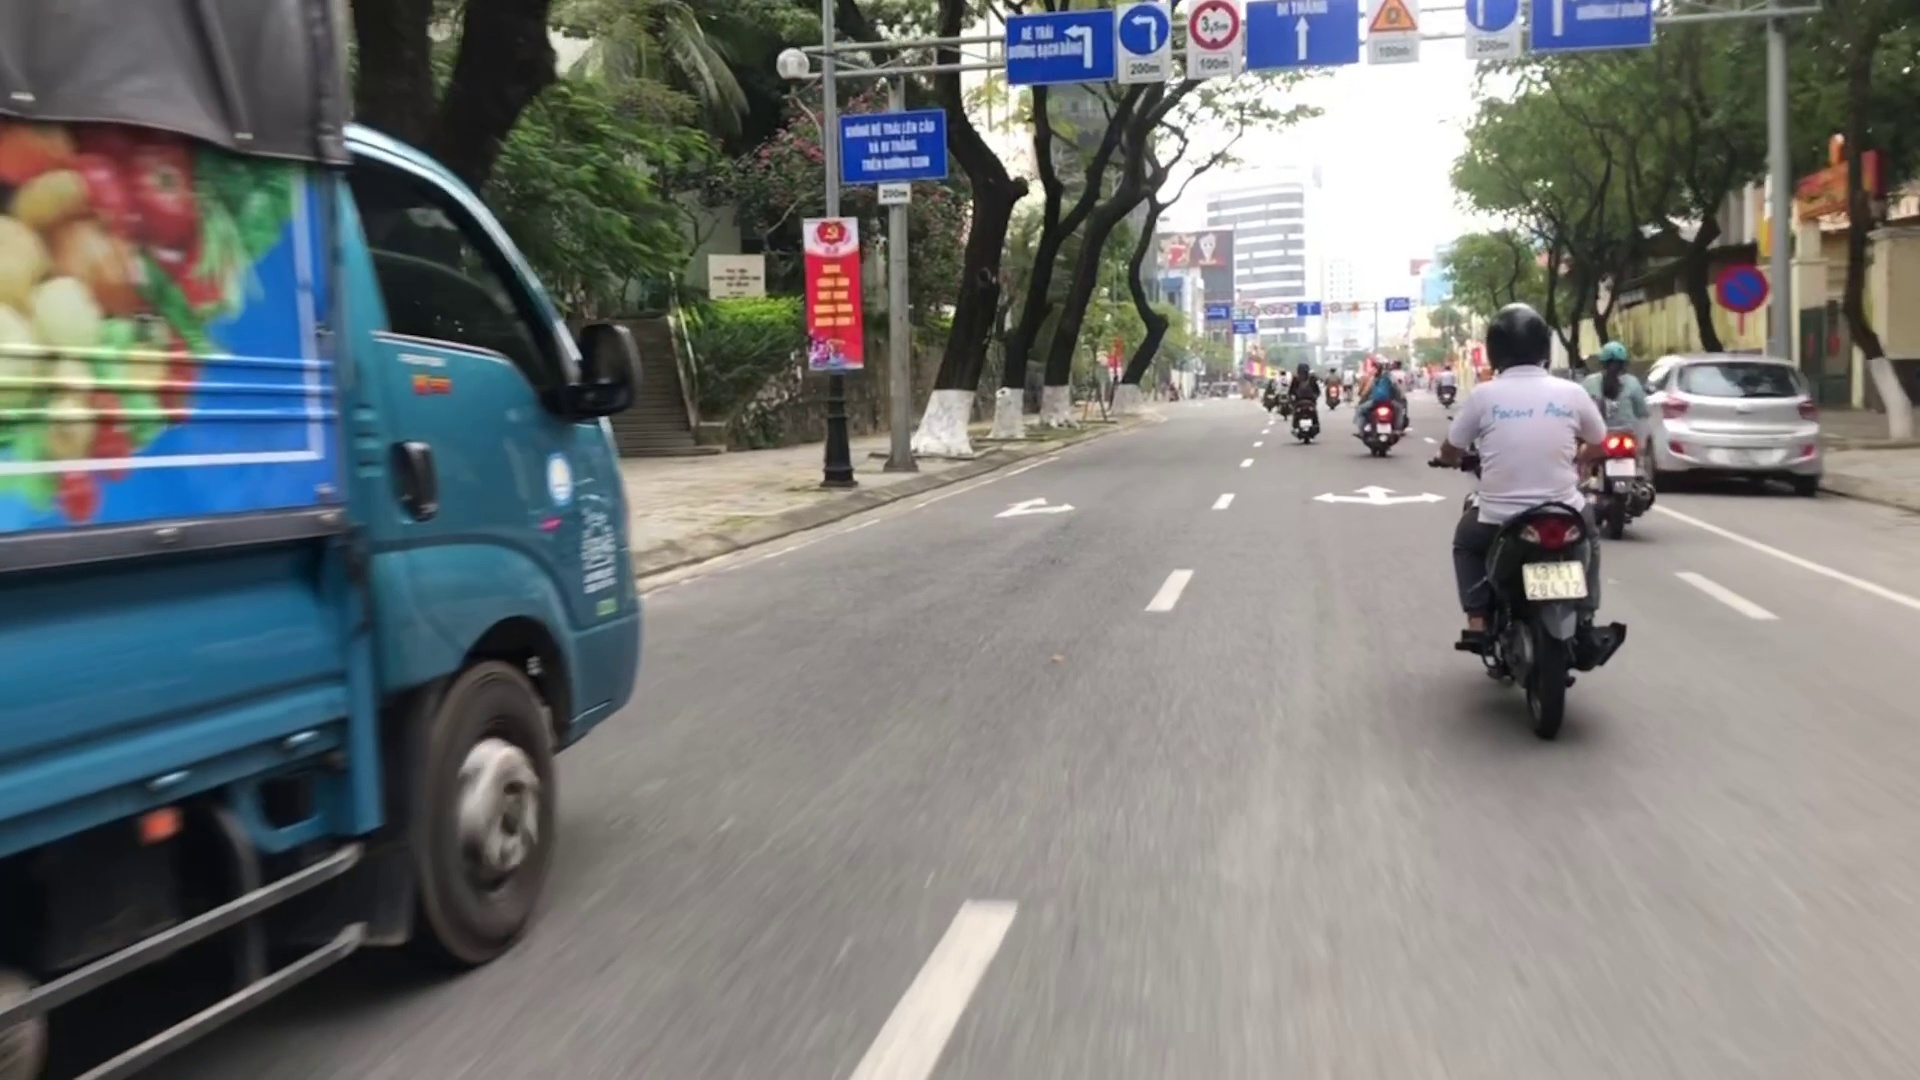Cam do xe: (1710, 258, 1774, 320)
